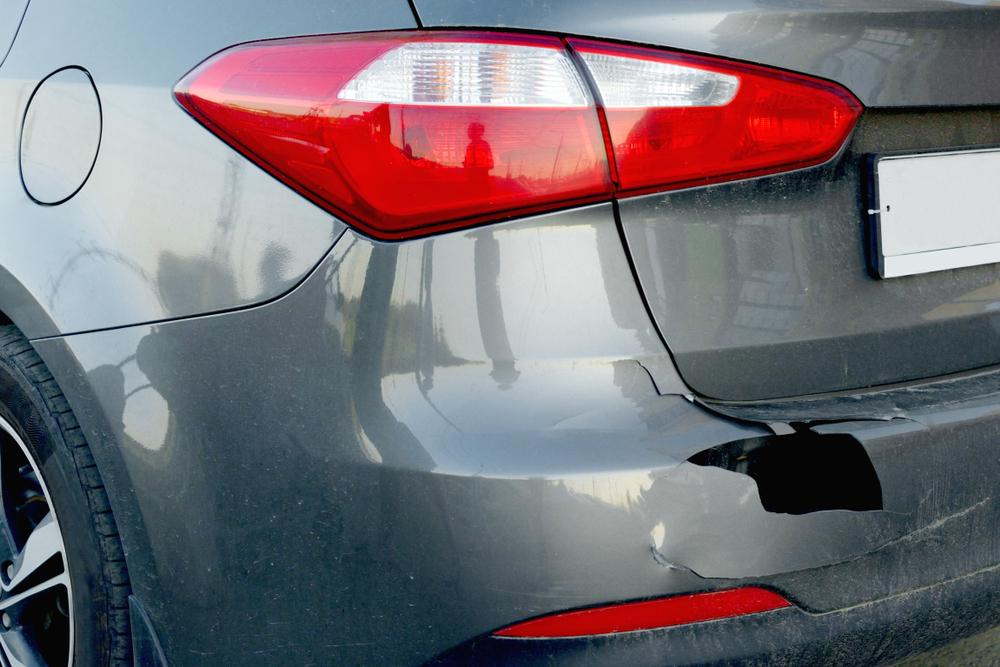crack: (633, 359, 922, 521), (634, 500, 985, 583)
